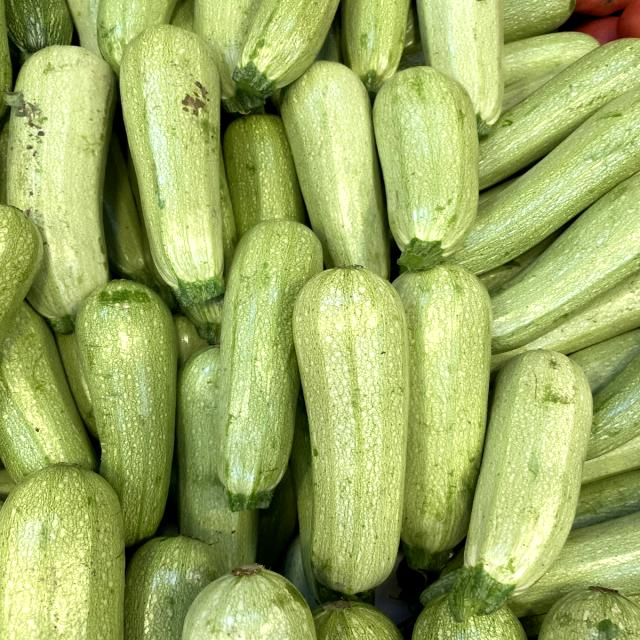zucchini: (286, 258, 426, 601), (439, 344, 604, 629), (119, 19, 245, 345), (362, 54, 490, 276)
